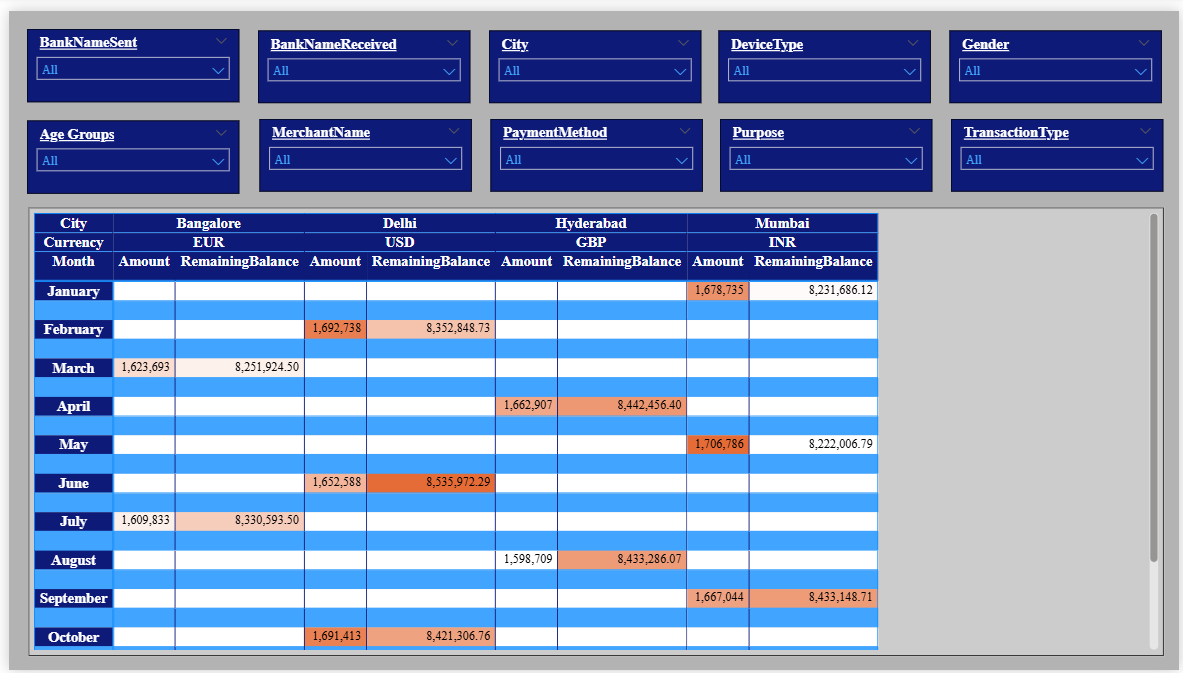

Layout of this report page (visuals, bound fields, positions):
{"tool":"powerbi","page":{"name":"Page 2","canvas":[1280,720],"ordinal":1},"visuals":[{"type":"slicer","fields":{"Values":["UPI Transaction data.BankNameSent"]},"box":[20,20,232,80],"z":0},{"type":"slicer","fields":{"Values":["UPI Transaction data.BankNameReceived"]},"box":[272,20.7,232.2,79.5],"z":1000},{"type":"slicer","fields":{"Values":["UPI Transaction data.City"]},"box":[524,20.7,232.2,79.5],"z":2000},{"type":"slicer","fields":{"Values":["UPI Transaction data.DeviceType"]},"box":[776,20.7,232.2,79.5],"z":3000},{"type":"slicer","fields":{"Values":["UPI Transaction data.Gender"]},"box":[1028,20.7,232.2,79.5],"z":4000},{"type":"slicer","fields":{"Values":["UPI Transaction data.Age Groups"]},"box":[20,119,232,80],"z":5000},{"type":"slicer","fields":{"Values":["UPI Transaction data.MerchantName"]},"box":[273.5,118.7,232.2,79.5],"z":6000},{"type":"slicer","fields":{"Values":["UPI Transaction data.PaymentMethod"]},"box":[525.5,118.7,232.2,79.5],"z":7000},{"type":"slicer","fields":{"Values":["UPI Transaction data.Purpose"]},"box":[777.5,118.7,232.2,79.5],"z":8000},{"type":"slicer","fields":{"Values":["UPI Transaction data.TransactionType"]},"box":[1029.5,118.7,232.2,79.5],"z":9000},{"type":"pivotTable","fields":{"Values":["Sum(UPI Transaction data.Amount)","Sum(UPI Transaction data.RemainingBalance)"],"Rows":["UPI Transaction data.TransactionDate.Variation.Date Hierarchy.Month"],"Columns":["UPI Transaction data.City","UPI Transaction data.Currency"]},"box":[20.7,214.7,1240.7,489.9],"z":10000}]}

Visuals, with their boxes in screenshot pixels (x1, y1, x2, y2), scaled from the page's 1280x720 canvas onto the 1183x673 screenshot:
slicer - UPI Transaction data.BankNameSent: [18, 19, 233, 93]
slicer - UPI Transaction data.BankNameReceived: [251, 19, 466, 94]
slicer - UPI Transaction data.City: [484, 19, 699, 94]
slicer - UPI Transaction data.DeviceType: [717, 19, 932, 94]
slicer - UPI Transaction data.Gender: [950, 19, 1165, 94]
slicer - UPI Transaction data.Age Groups: [18, 111, 233, 186]
slicer - UPI Transaction data.MerchantName: [253, 111, 467, 185]
slicer - UPI Transaction data.PaymentMethod: [486, 111, 700, 185]
slicer - UPI Transaction data.Purpose: [719, 111, 933, 185]
slicer - UPI Transaction data.TransactionType: [951, 111, 1166, 185]
pivotTable - Sum(UPI Transaction data.Amount) x Sum(UPI Transaction data.RemainingBalance): [19, 201, 1166, 659]
